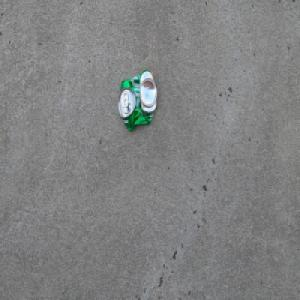SodaCan: (117, 69, 157, 132)
